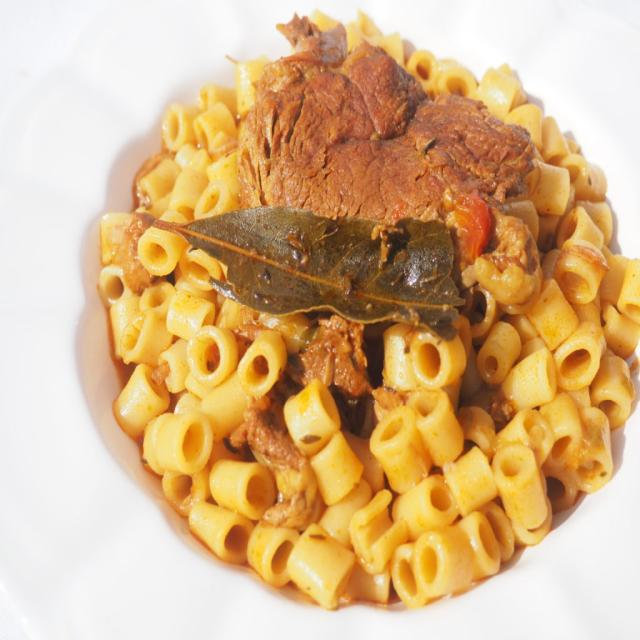Pasta: (95, 29, 627, 594)
